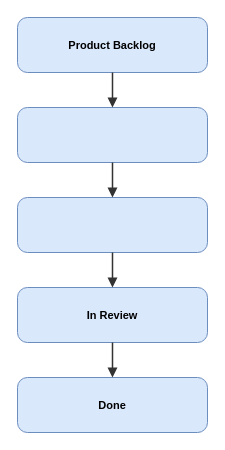
Image size: 225x450. Some labels were removed from this diagram. Each missing label, with the box of its shape:
In Progress: (16, 196, 208, 252)
Sprint Backlog: (16, 106, 208, 162)
